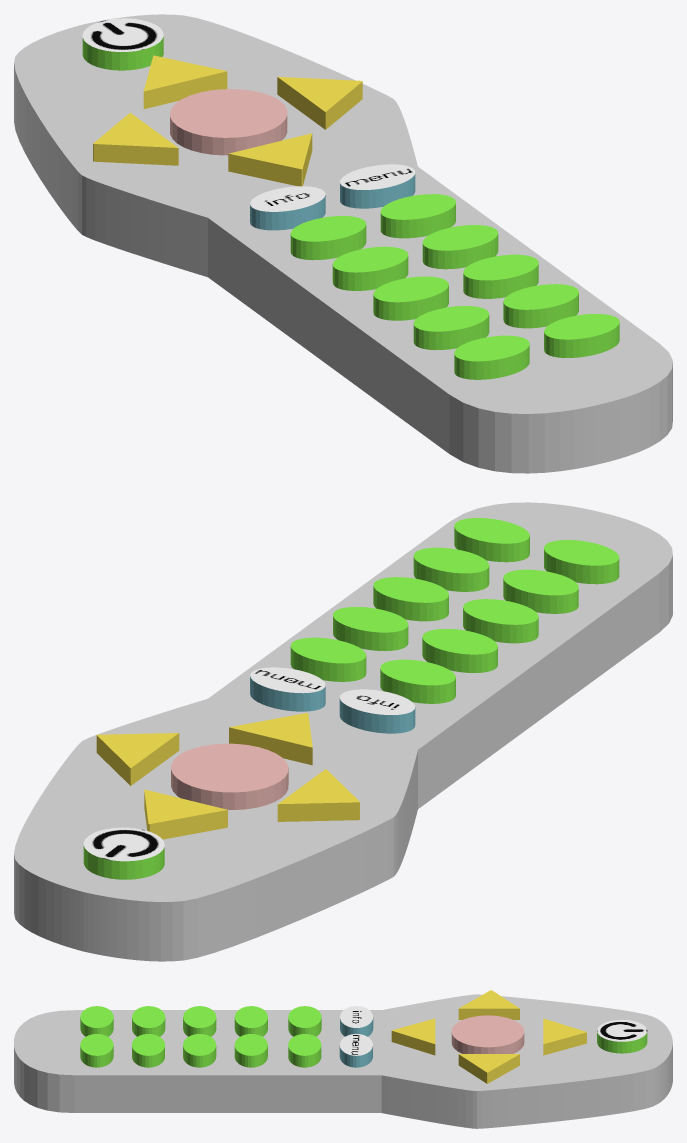
The model's file is remote1.glb.
3 views of the same model, one above another, from view 1: azimuth 30°, elevation 25°; view 2: azimuth 150°, elevation 25°; view 3: azimuth 270°, elevation 25° (orthographic). The views are drawn at different scales.
Visible parts, largest first — view 1: Curve, Middle_Button, Power_Button, Prev_Proj, Next_Proj, Next_Channel, Prev_Channel, Button_9, Button_10, Button_1, Button_2, Button_3 (+7 smaller); view 2: Curve, Middle_Button, Power_Button, Next_Proj, Prev_Proj, Info_Button, Prev_Channel, Menu_Button, Button 4, Button_3, Button_2, Button_8 (+7 smaller); view 3: Curve, Middle_Button, Power_Button, Next_Proj, Prev_Proj, Next_Channel, Prev_Channel, Button_2, Button 4, Button_10, Button 6, Menu_Button (+7 smaller).
Part boxes in pixels (box(x1,y1,x2,y2)): Curve: box(14, 14, 672, 473); Middle_Button: box(170, 89, 287, 155); Power_Button: box(82, 18, 163, 70); Prev_Proj: box(93, 112, 178, 165); Next_Proj: box(277, 76, 362, 129); Next_Channel: box(228, 133, 312, 186); Prev_Channel: box(143, 55, 227, 109); Button_9: box(454, 335, 529, 379); Button_10: box(544, 314, 619, 357); Button_1: box(290, 216, 366, 260); Button_2: box(380, 194, 455, 238); Button_3: box(332, 246, 408, 290); Curve: box(14, 502, 672, 961); Middle_Button: box(171, 743, 288, 809); Power_Button: box(83, 827, 164, 879); Next_Proj: box(96, 733, 179, 785); Prev_Proj: box(277, 769, 359, 821); Info_Button: box(339, 689, 415, 733); Prev_Channel: box(144, 789, 227, 839); Menu_Button: box(250, 667, 325, 711); Button 4: box(333, 607, 408, 650); Button_3: box(422, 629, 497, 672); Button_2: box(290, 637, 366, 681); Button_8: box(413, 547, 489, 591); Curve: box(14, 994, 672, 1128); Middle_Button: box(451, 1015, 524, 1053); Power_Button: box(597, 1019, 647, 1053); Next_Proj: box(458, 1054, 519, 1083); Prev_Proj: box(458, 990, 519, 1019); Next_Channel: box(391, 1018, 435, 1055); Prev_Channel: box(543, 1018, 586, 1055); Button_2: box(288, 1034, 321, 1067); Button 4: box(234, 1034, 267, 1067); Button_10: box(80, 1034, 113, 1067); Button 6: box(183, 1034, 216, 1067); Menu_Button: box(339, 1034, 372, 1067).
Size of the model in its own units: 2.51 by 0.6006 by 7.24.
22 materials, 3 textured.
